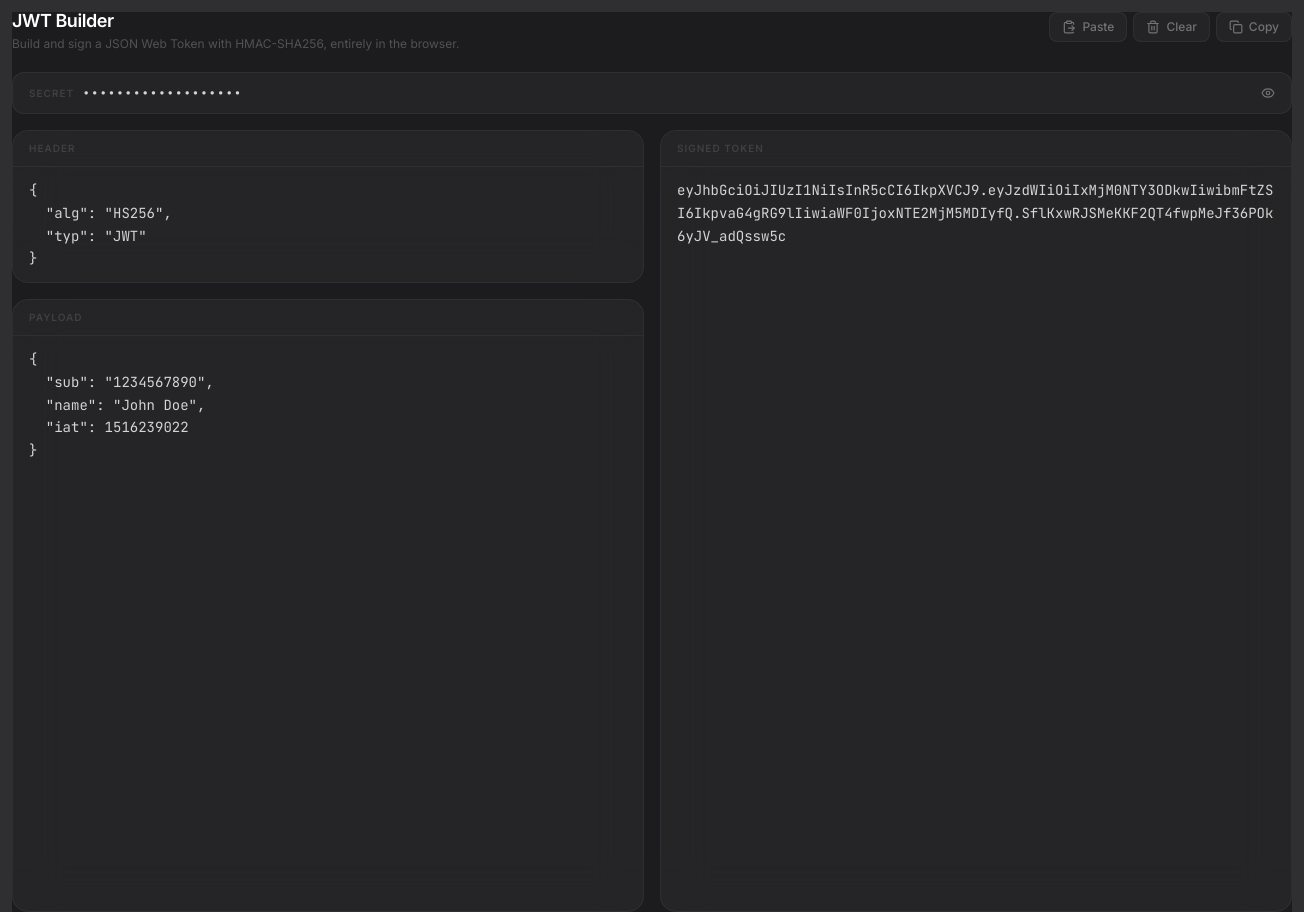
Test: JwtBuilder › regenerates the token when the secret changes
Step 1. Type "a-different-secret" into the password field with placeholder "your-256-bit-secret" → (668, 93), box left=82, top=83, right=1253, bottom=103
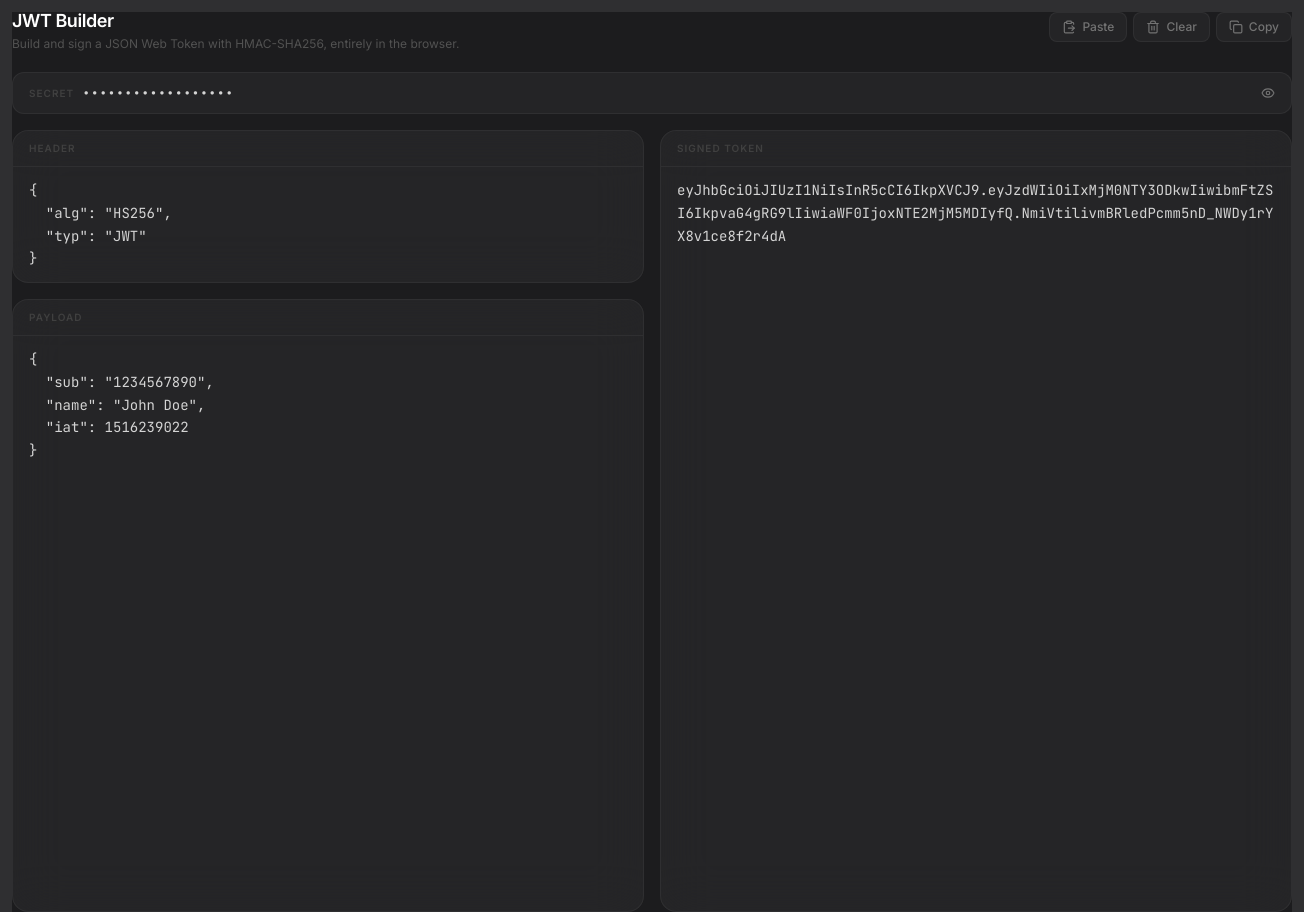
Expected: the text "eyJhbGciOiJIUzI1NiIsInR5cCI6IkpXVCJ9.eyJzdWIiOiIxMjM0NTY3ODkwIiwibmFtZSI6IkpvaG4gRG9lIiwiaWF0IjoxNTE2MjM5MDIyfQ.SflKxwRJSMeKKF2QT4fwpMeJf36POk6yJV_adQssw5c" is gone
